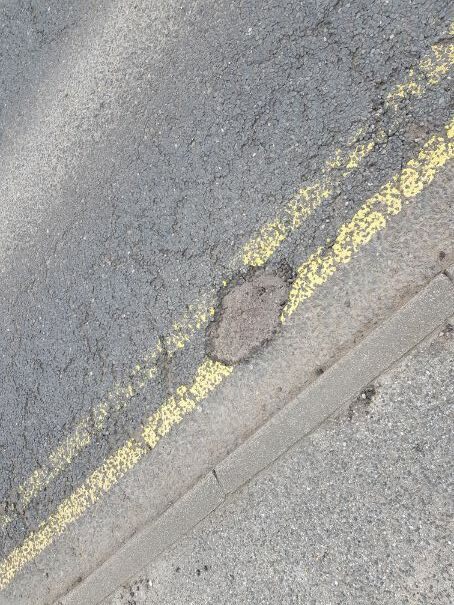pothole: (198, 254, 299, 368)
